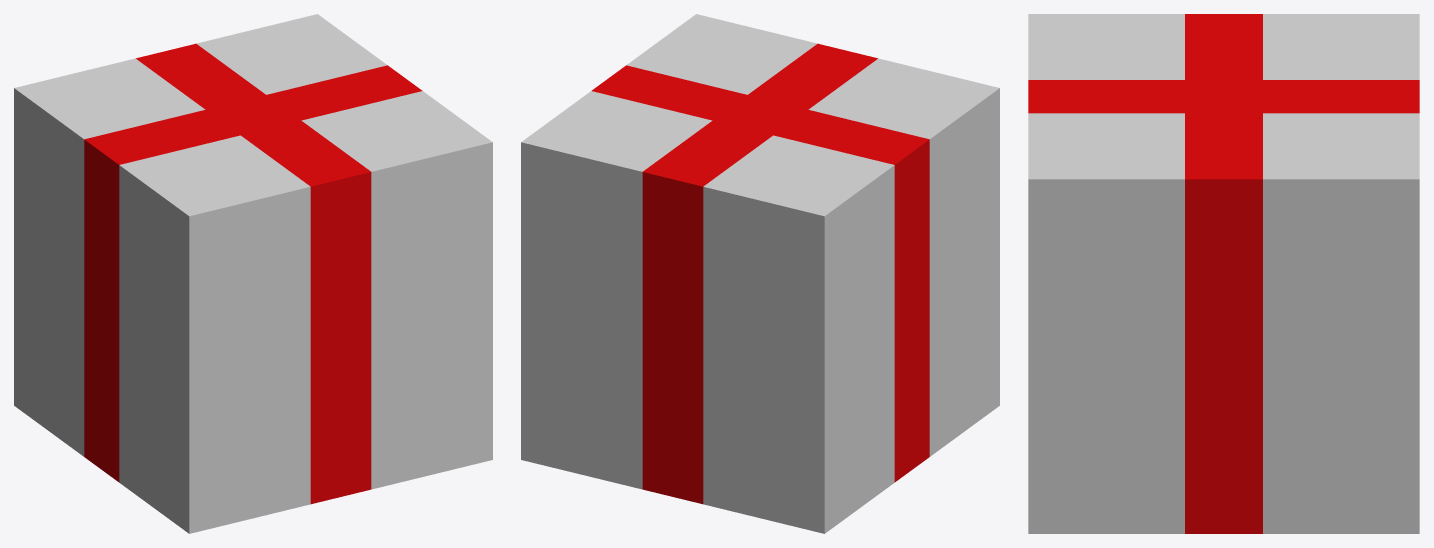
File: present.glb
3 views of the same model, side by side, from view 1: azimuth 30°, elevation 25°; view 2: azimuth 150°, elevation 25°; view 3: azimuth 270°, elevation 25° (orthographic). The views are drawn at different scales.
Parts seen in each view (by area): view 1: Cube; view 2: Cube; view 3: Cube.
Boxes of the visible parts, <box> form: Cube: <box>14,14,492,533</box>; Cube: <box>521,14,999,533</box>; Cube: <box>1028,14,1419,533</box>.
Bounding box in the file's own units: 1 × 1 × 1.
